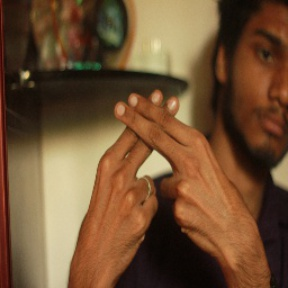F: (95, 81, 211, 220)
